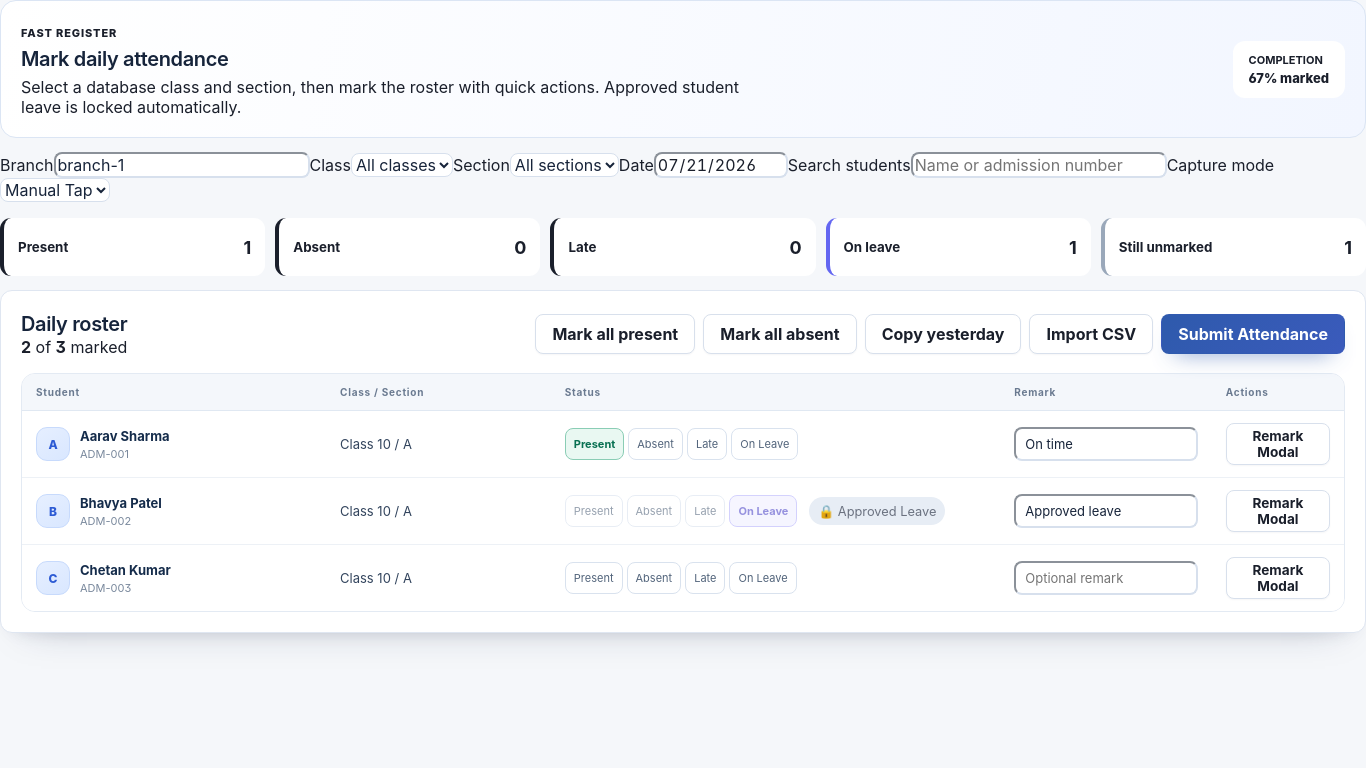
Test: MarkAttendanceTab › opens and updates remark using the Student Remark Modal
The image size is (1366, 768).
Expected: the text "Aarav Sharma" is shown, top-left (80, 428), bottom-right (170, 444)
Click the button "Remark Modal" in the row of "Aarav": x=1278, y=444 top-left (1226, 423), bottom-right (1330, 465)
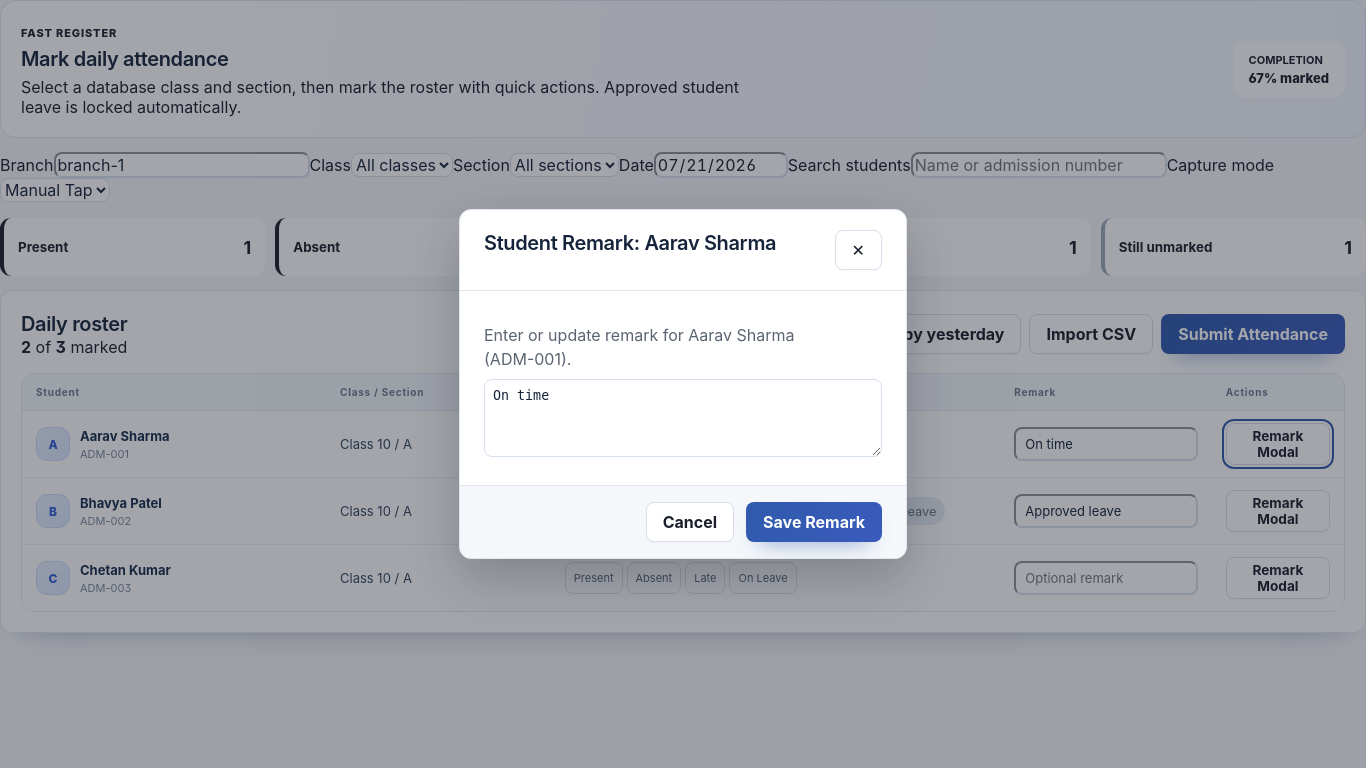
Expected: the dialog shows "Student Remark: Aarav Sharma"
Expected: the text box named "Student Remark Text" holds "On time"
Replace the text in the text box named "Student Remark Text" with "Participated actively in class": x=683, y=418 top-left (484, 379), bottom-right (882, 457)
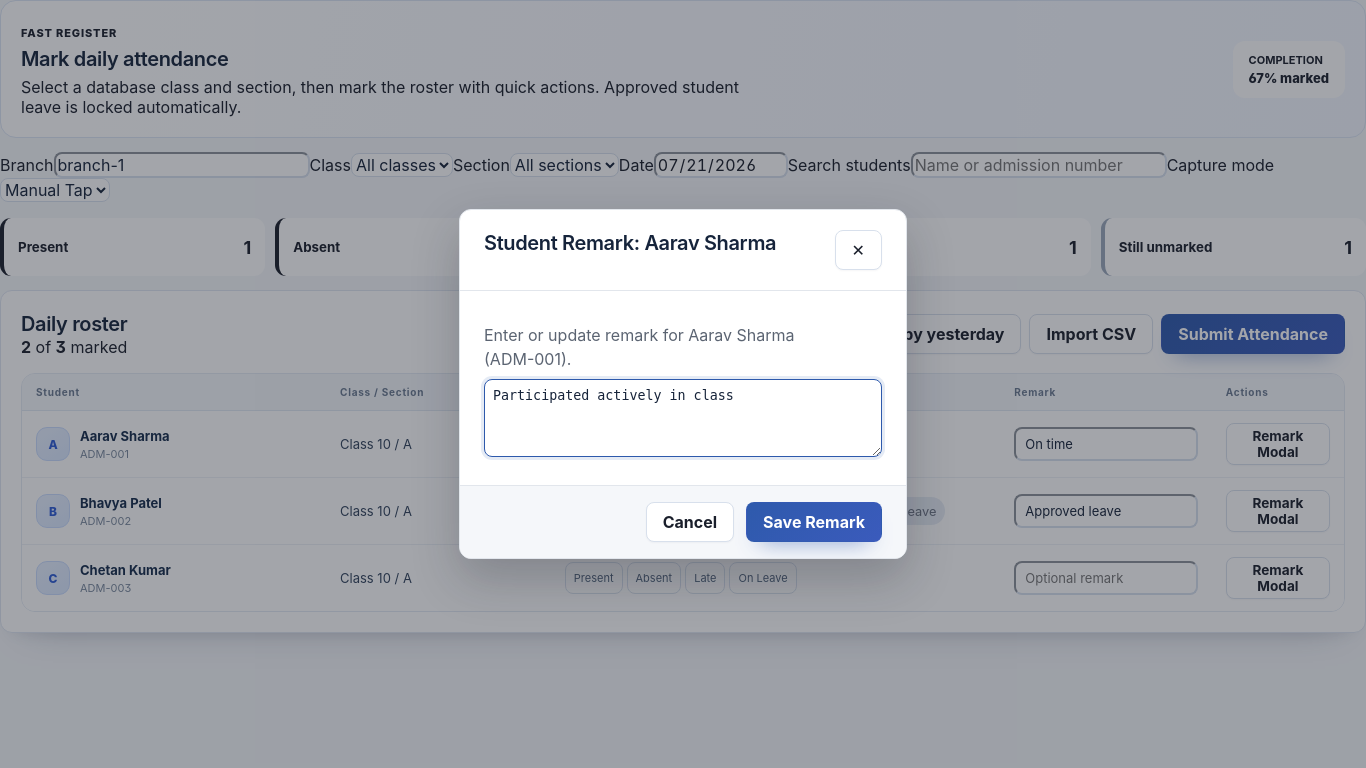
Click the button "Save Remark": x=814, y=522 top-left (746, 502), bottom-right (882, 542)
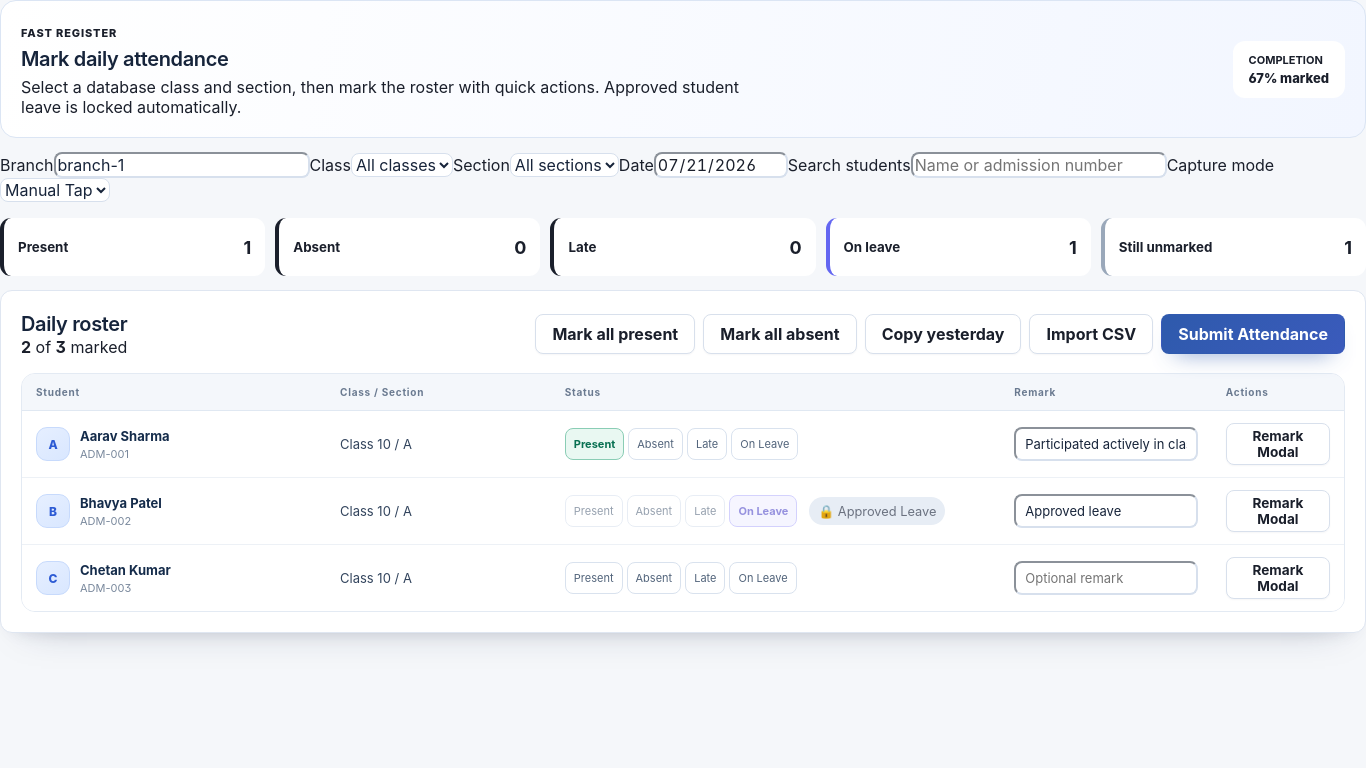
Expected: the dialog is gone
Expected: the field showing "Participated actively in class" in the row of "Aarav" is shown, top-left (1014, 427), bottom-right (1198, 461)
